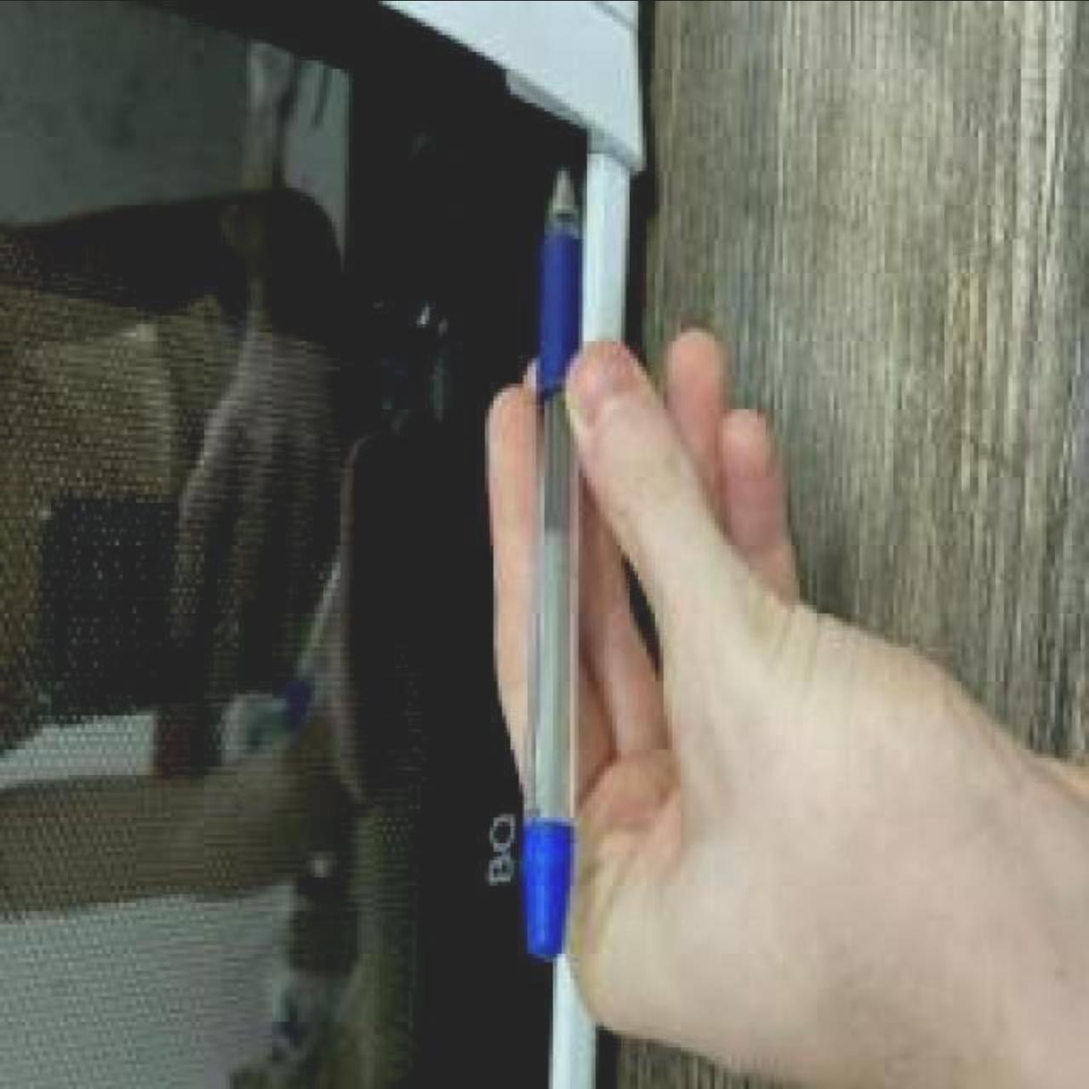pen: (519, 151, 584, 956)
